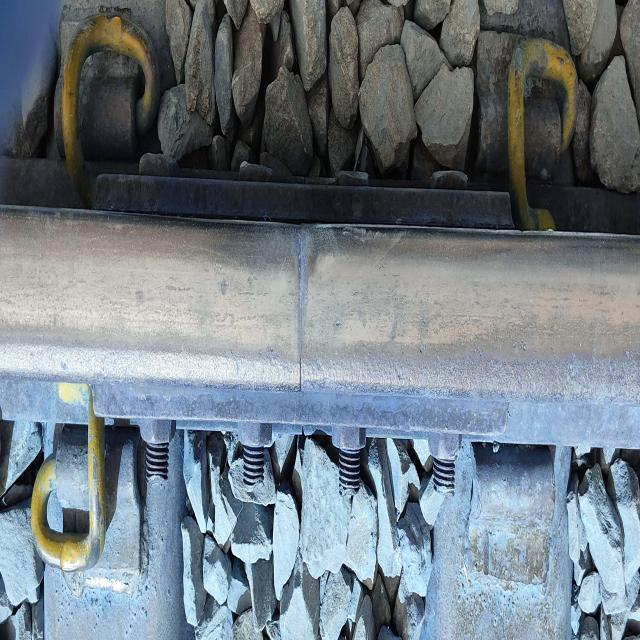Good Fasteners: (27, 379, 148, 609), (47, 19, 168, 217), (478, 0, 565, 234)
Good Joint: (102, 160, 517, 496)
Missing Fastener: (464, 435, 564, 637)
